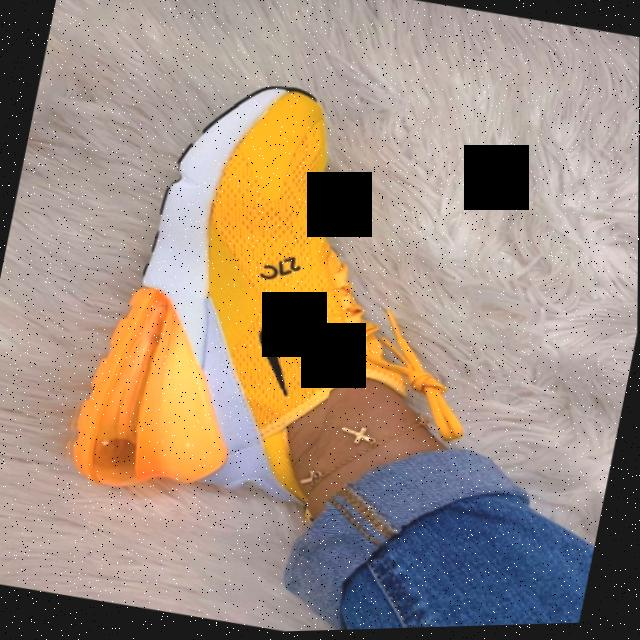shoe: (53, 49, 389, 539)
